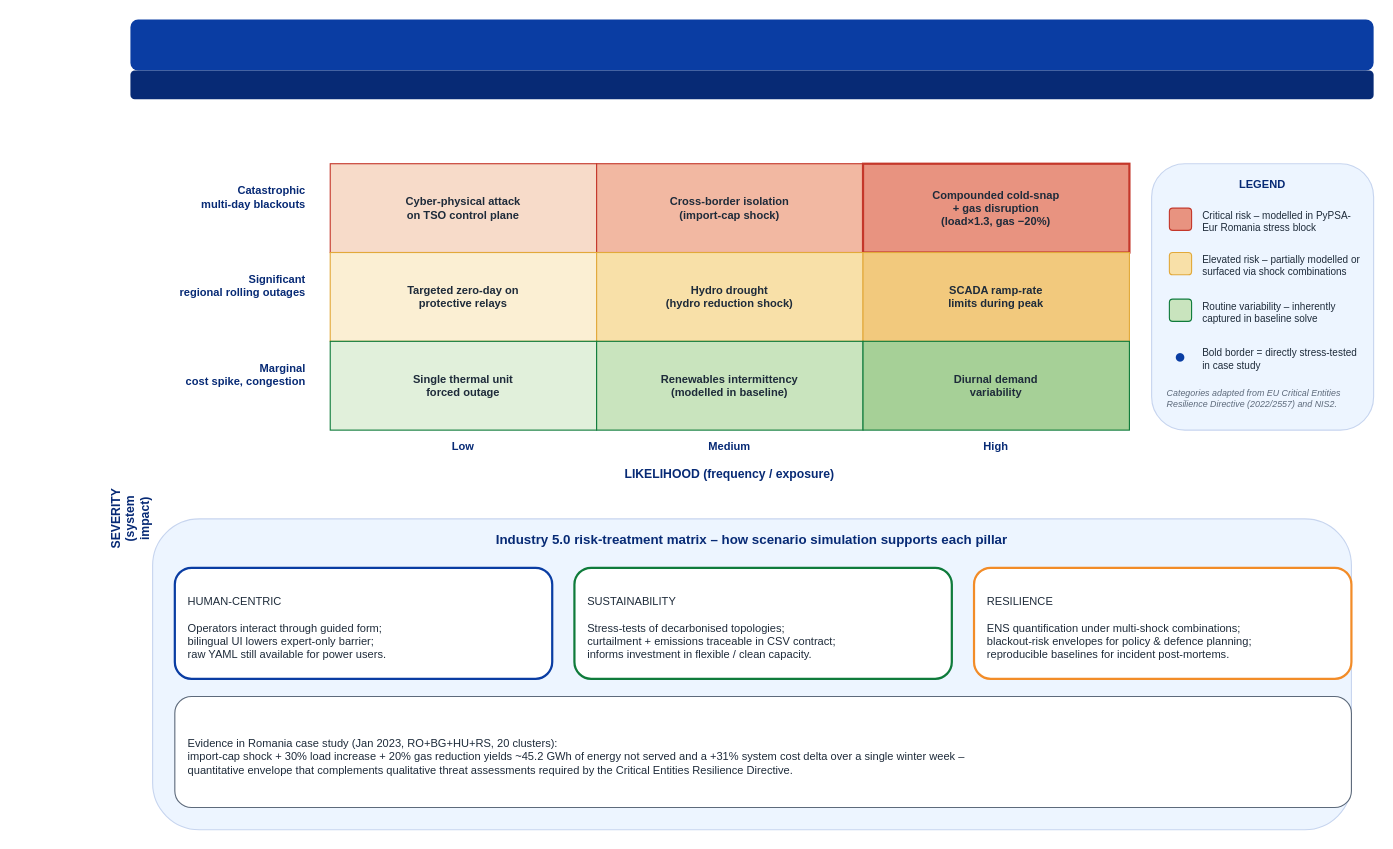
Some shapes in this 1393 by 849 pixel diagram are drawn without their labels. Here are the shapes that lost their labels. From the top down, the centre of each, then its label:
point 751,44: Industry 5.0 Risk Surface for European Energy Systems
point 751,84: Likelihood × Severity matrix mapped to PyPSA-Eur Romania stress-test coverage
